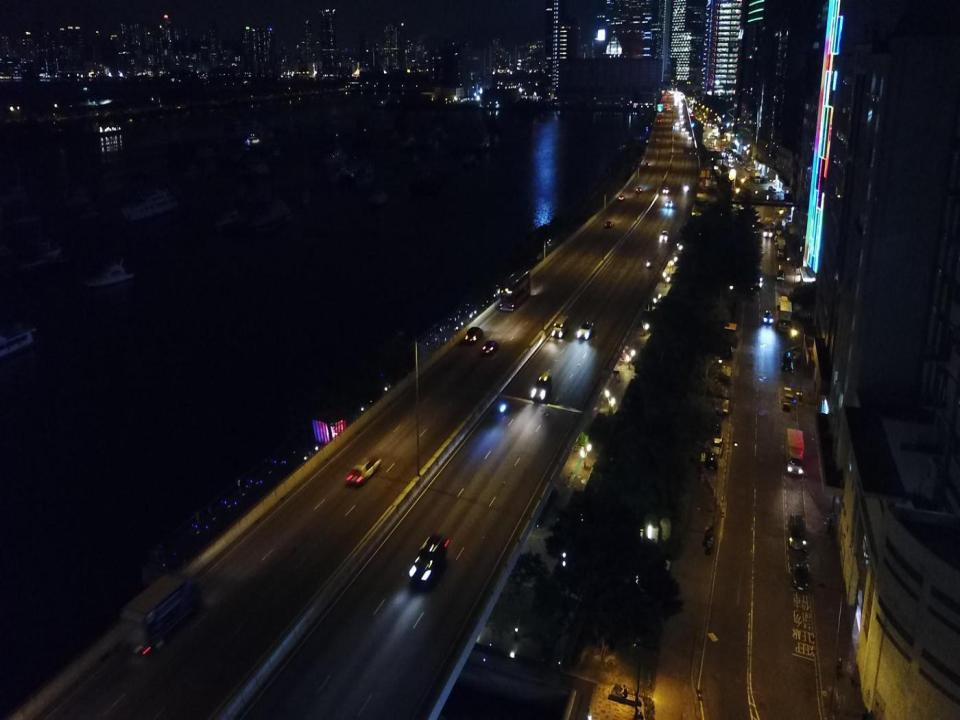bus: (499, 268, 531, 310)
car: (410, 534, 447, 584), (347, 455, 382, 486), (790, 548, 810, 591), (787, 512, 807, 552), (531, 372, 552, 402), (576, 319, 594, 339), (465, 326, 483, 343), (706, 452, 718, 472), (482, 341, 499, 354), (781, 351, 791, 370), (763, 226, 774, 238), (763, 310, 772, 324), (776, 270, 786, 280), (774, 231, 782, 240), (605, 219, 614, 227), (660, 231, 668, 240), (666, 200, 673, 207), (663, 187, 669, 194), (682, 185, 689, 191), (636, 187, 642, 193), (674, 122, 680, 127), (618, 196, 625, 200), (768, 186, 773, 191), (687, 136, 692, 141), (771, 189, 777, 193), (644, 163, 650, 167), (746, 167, 750, 172), (654, 137, 658, 142), (681, 127, 685, 132), (744, 165, 748, 169), (685, 130, 689, 134), (680, 121, 684, 124), (659, 112, 662, 115), (680, 115, 683, 118), (658, 119, 662, 121), (678, 110, 682, 112)
truck: (120, 572, 202, 657), (784, 428, 804, 477), (778, 300, 792, 334), (776, 238, 786, 258), (749, 169, 760, 184)
van: (552, 315, 568, 337), (710, 434, 723, 455)
